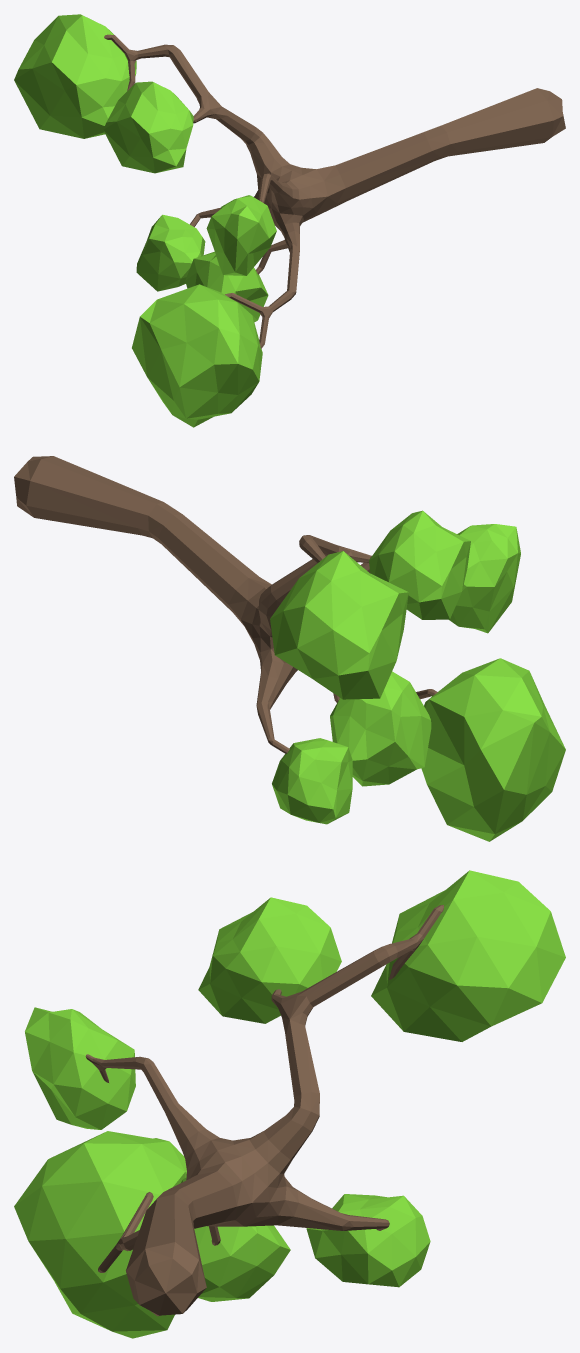
File: tree3.dae
3 renders of one model, top to bottom at view 1: azimuth 30°, elevation 25°; view 2: azimuth 150°, elevation 25°; view 3: azimuth 270°, elevation 25°, orthographic. The views are drawn at different scales.
Parts seen in each view (by area): view 1: Tree1.1; view 2: Tree1.1; view 3: Tree1.1.
Part boxes in pixels (x1,y1,x2,y2): Tree1.1: (14,14,565,427); Tree1.1: (14,456,565,841); Tree1.1: (14,870,565,1338).
Size of the model in its own units: 4.69 by 3.64 by 3.43.
Materials: 1 (1 with a texture image).
